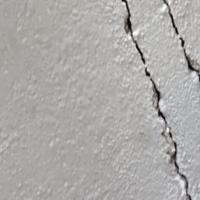crack: (114, 2, 199, 199)
